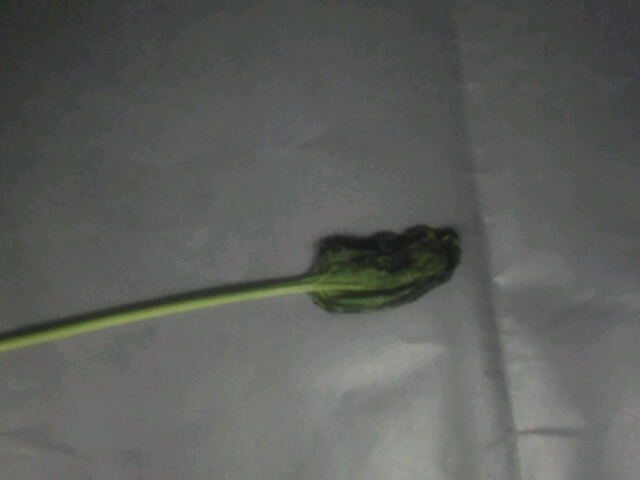yellow: (278, 213, 464, 328)
